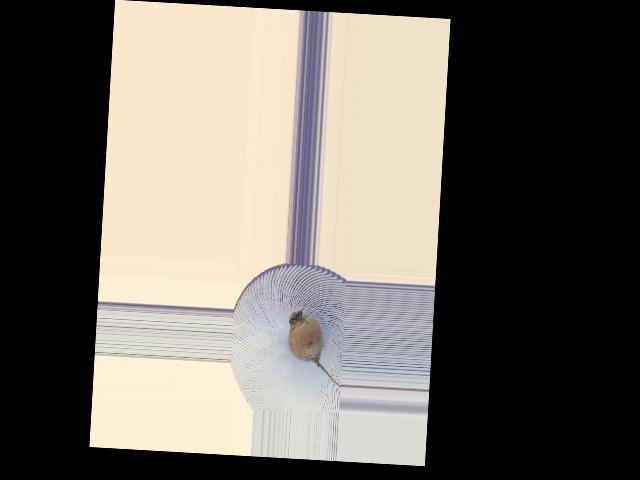beet: (286, 309, 345, 386)
